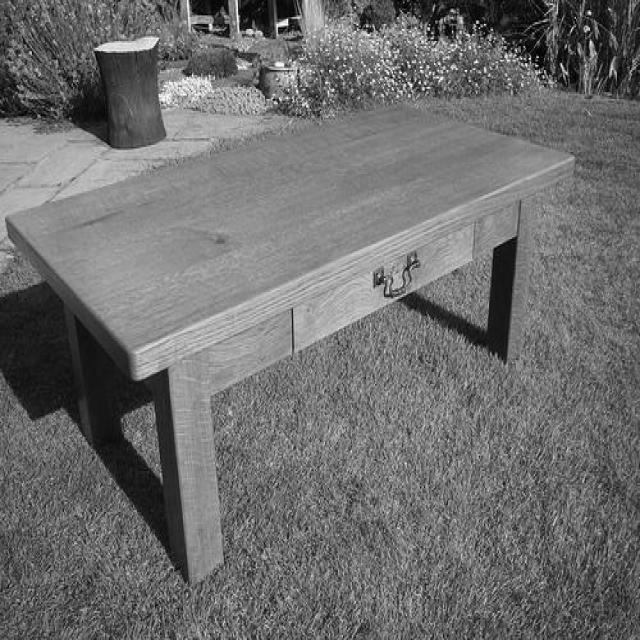table: (7, 106, 576, 580)
